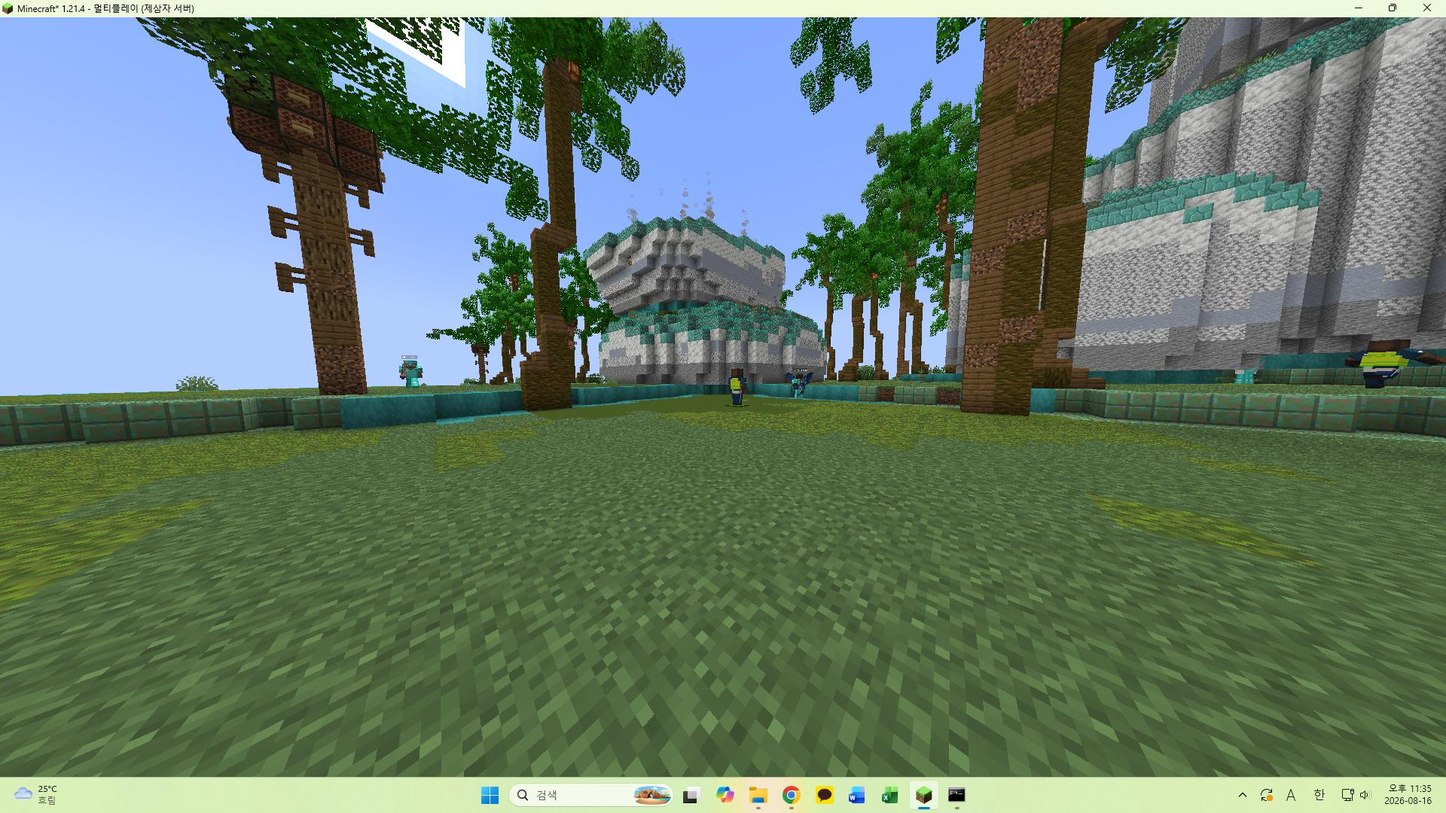Guardian: (728, 367, 747, 406)
